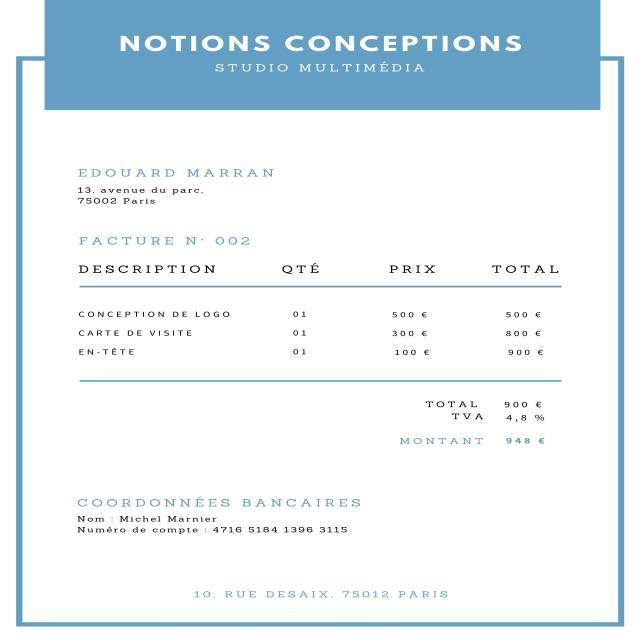ROI: (64, 259, 576, 374), (110, 30, 539, 88), (63, 490, 365, 545), (67, 163, 288, 212), (394, 395, 555, 455), (183, 583, 462, 604), (67, 227, 263, 252)
